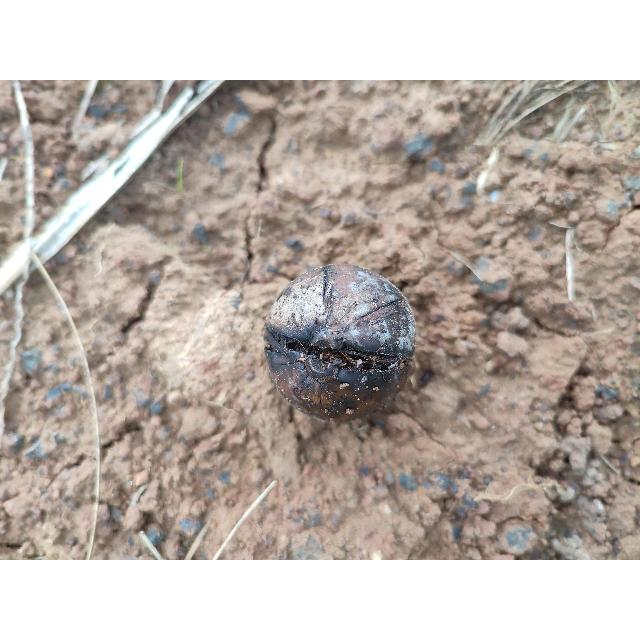damaged: (262, 264, 418, 422)
